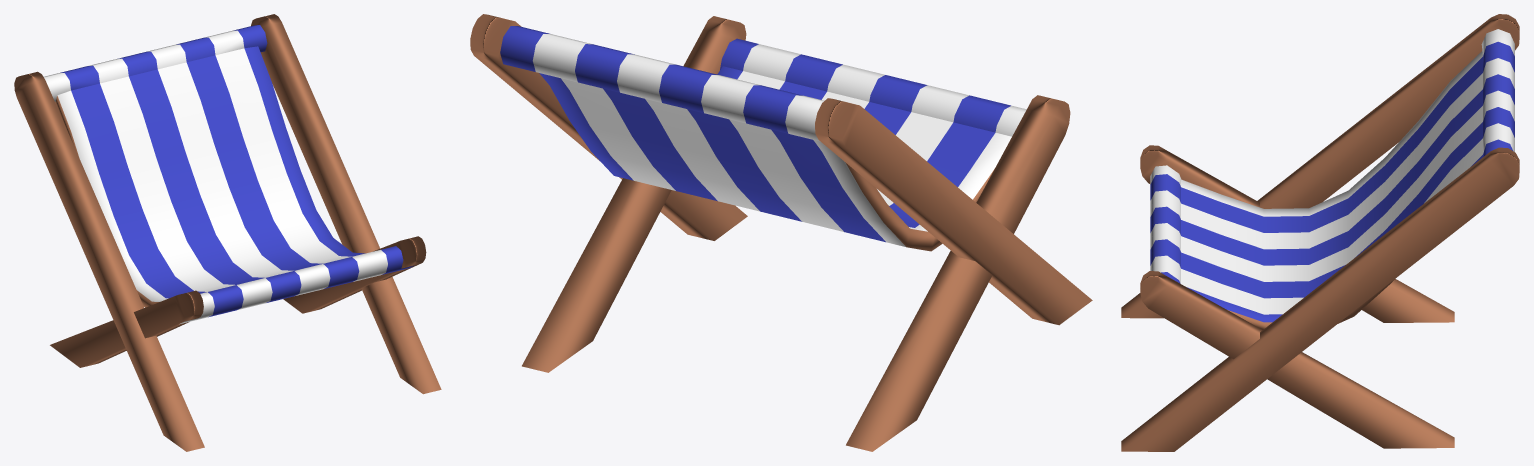
File: deck_chair_blue.fbx
The picture shows the model from 3 angles, left to right: view 1: azimuth 30°, elevation 25°; view 2: azimuth 150°, elevation 25°; view 3: azimuth 270°, elevation 25°; orthographic projection. The views are drawn at different scales.
Parts seen in each view (by area): view 1: deck_chair_blue; view 2: deck_chair_blue; view 3: deck_chair_blue.
Part boxes in pixels (x1,y1,x2,y2): deck_chair_blue: [14, 14, 441, 451]; deck_chair_blue: [470, 14, 1092, 451]; deck_chair_blue: [1121, 14, 1519, 451].
Bounding box in the file's own units: 0.7386 × 0.7048 × 0.8637.
